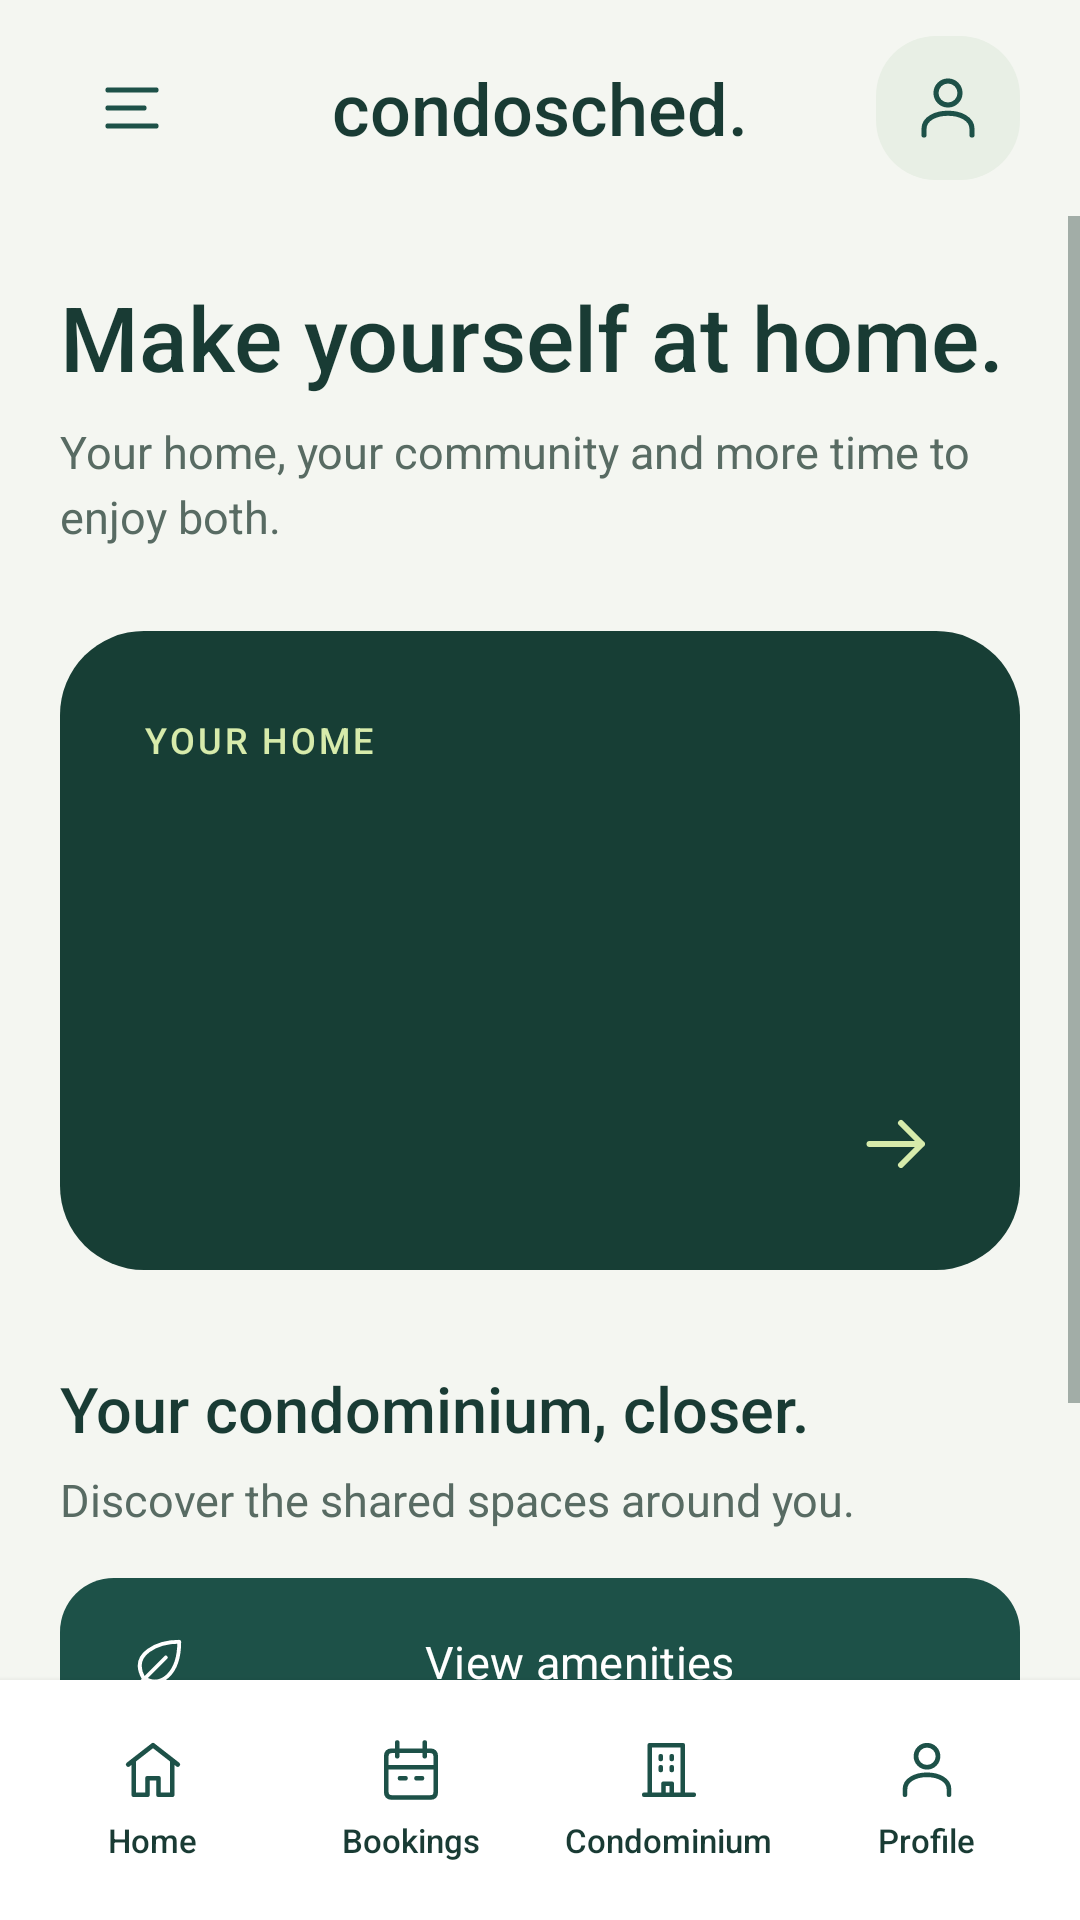

Named icons in this screenshot (1080×1920) and their centers, (x=x, y=y):
arrow: (x=895, y=1144)
building: (x=669, y=1770)
calendar: (x=411, y=1770)
Open menu: (x=132, y=108)
Open profile: (x=948, y=108)
person: (x=927, y=1770)
